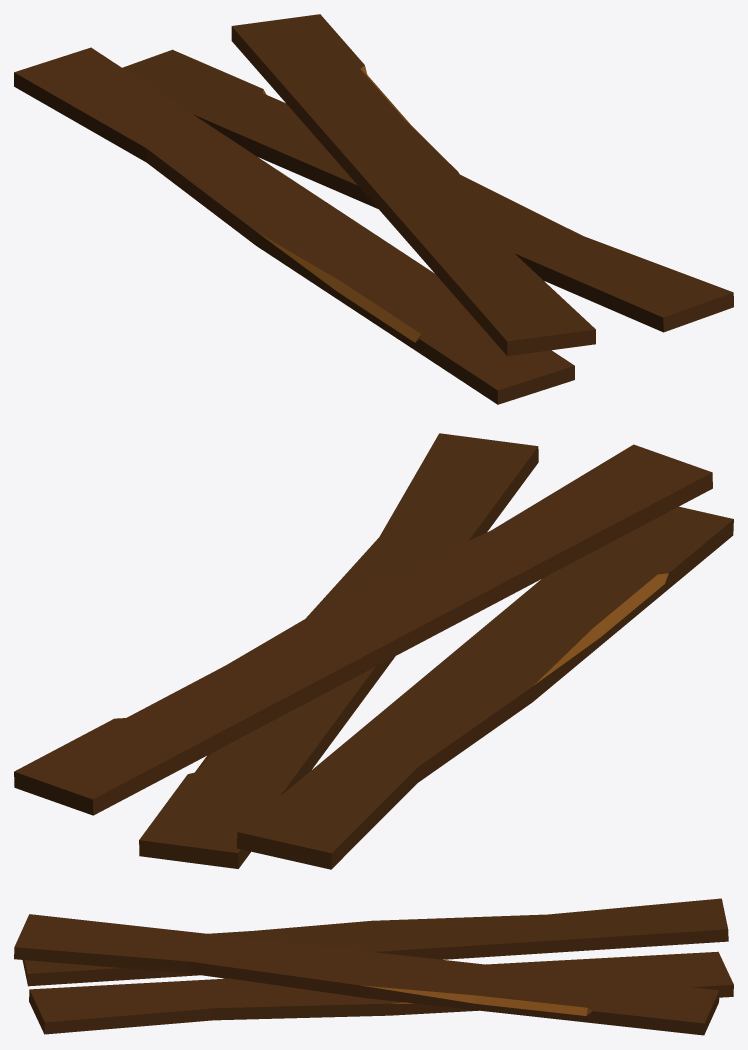
The model's file is WoodPlanks.obj.
3 renders of one model, top to bottom at view 1: azimuth 30°, elevation 25°; view 2: azimuth 150°, elevation 25°; view 3: azimuth 270°, elevation 25°, orthographic. The views are drawn at different scales.
Visible parts, largest first — view 1: WoodPlanks_Cube.011; view 2: WoodPlanks_Cube.011; view 3: WoodPlanks_Cube.011.
Part boxes in pixels (bbox=[...]): WoodPlanks_Cube.011: bbox=[14, 14, 733, 404]; WoodPlanks_Cube.011: bbox=[14, 433, 733, 869]; WoodPlanks_Cube.011: bbox=[14, 898, 733, 1035].
Size of the model in its own units: 0.7164 by 0.1244 by 1.73.
